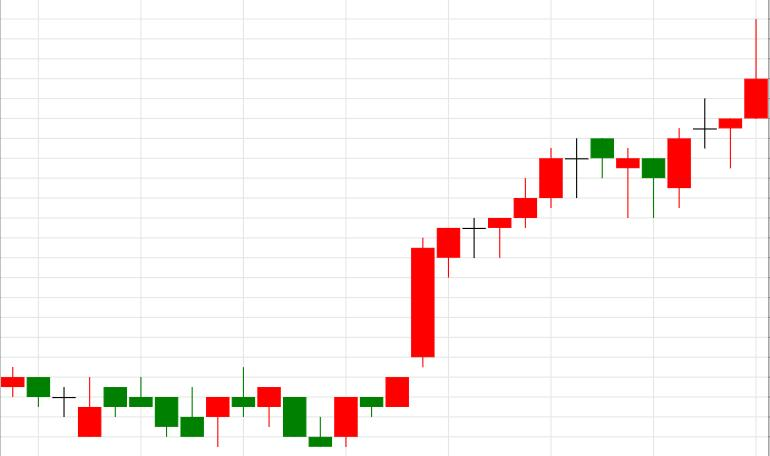shooting_star_fall: (667, 18, 769, 207)
